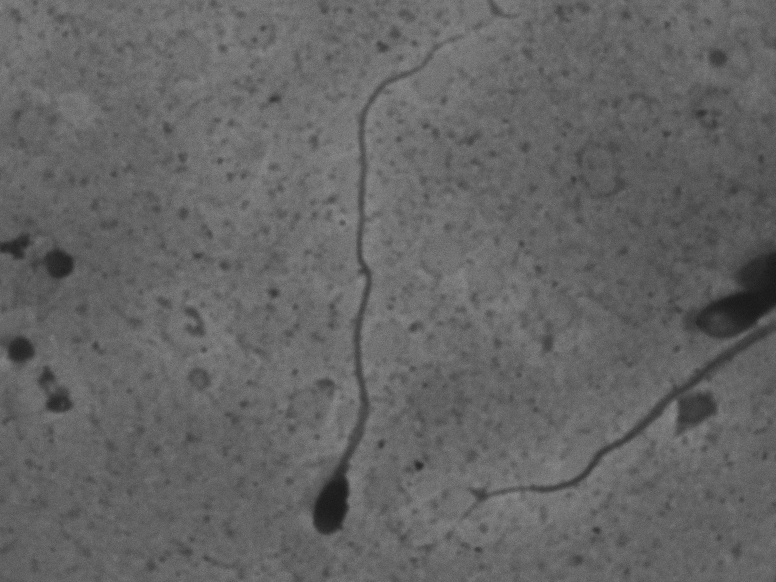Normal: (285, 18, 479, 551)
